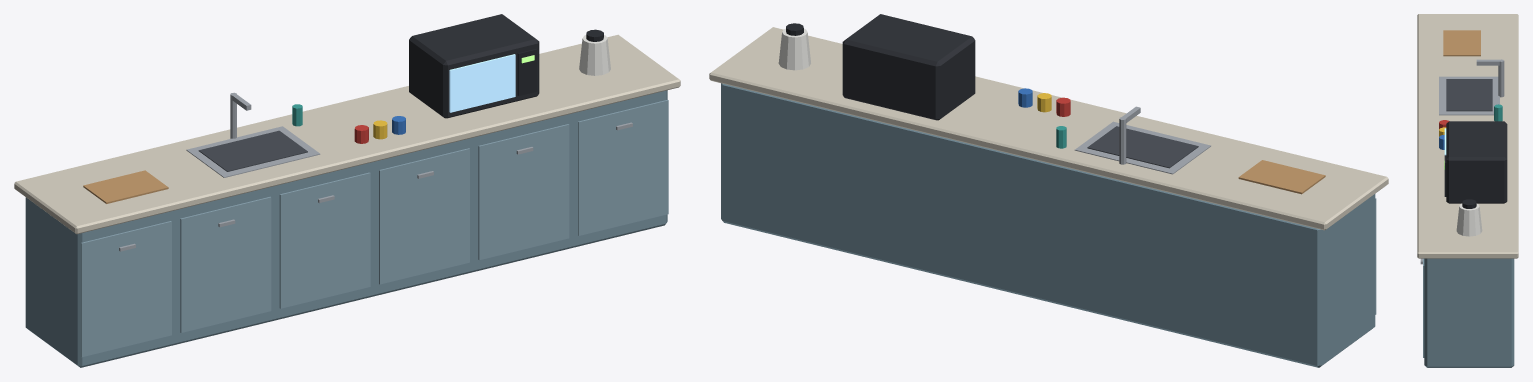
File: kitchen_counter.glb
3 renders of one model, left to right at view 1: azimuth 30°, elevation 25°; view 2: azimuth 150°, elevation 25°; view 3: azimuth 270°, elevation 25°, orthographic. The views are drawn at different scales.
Visible parts, largest first — view 1: kitchen_counter_mesh; view 2: kitchen_counter_mesh; view 3: kitchen_counter_mesh.
Part boxes in pixels (x1=…): kitchen_counter_mesh: x1=14, y1=14, x2=680, y2=367; kitchen_counter_mesh: x1=709, y1=14, x2=1388, y2=367; kitchen_counter_mesh: x1=1417, y1=14, x2=1518, y2=367.
Size of the model in its own units: 3.9 by 1.26 by 0.7.
